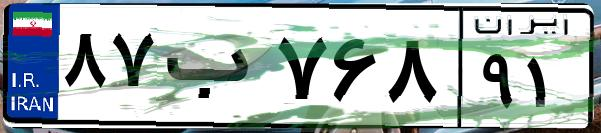1: (525, 38, 570, 115)
6: (330, 28, 385, 110)
7: (270, 28, 330, 110), (110, 28, 158, 98)
8: (385, 28, 445, 110), (57, 26, 110, 100)
9: (475, 38, 525, 113)
ب: (158, 20, 270, 120)
